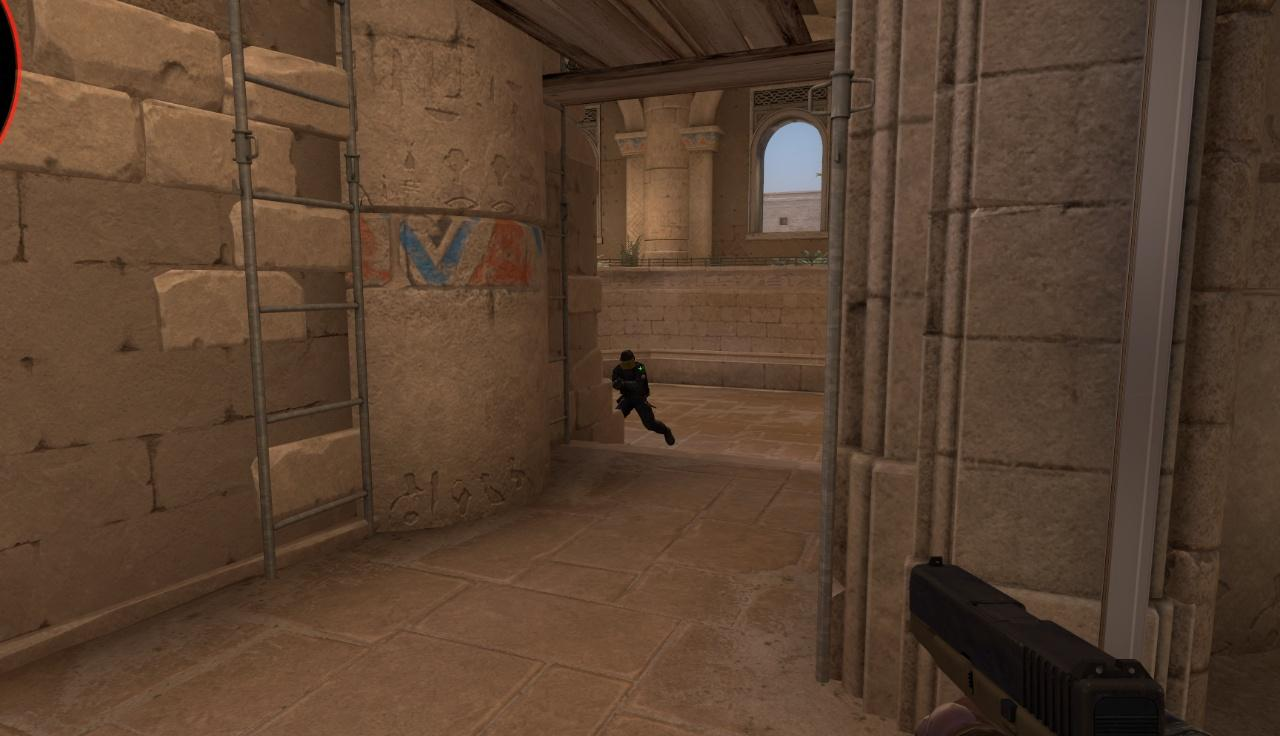ct: (611, 348, 672, 443)
cthead: (620, 349, 637, 370)
pistol: (905, 558, 1170, 735)
